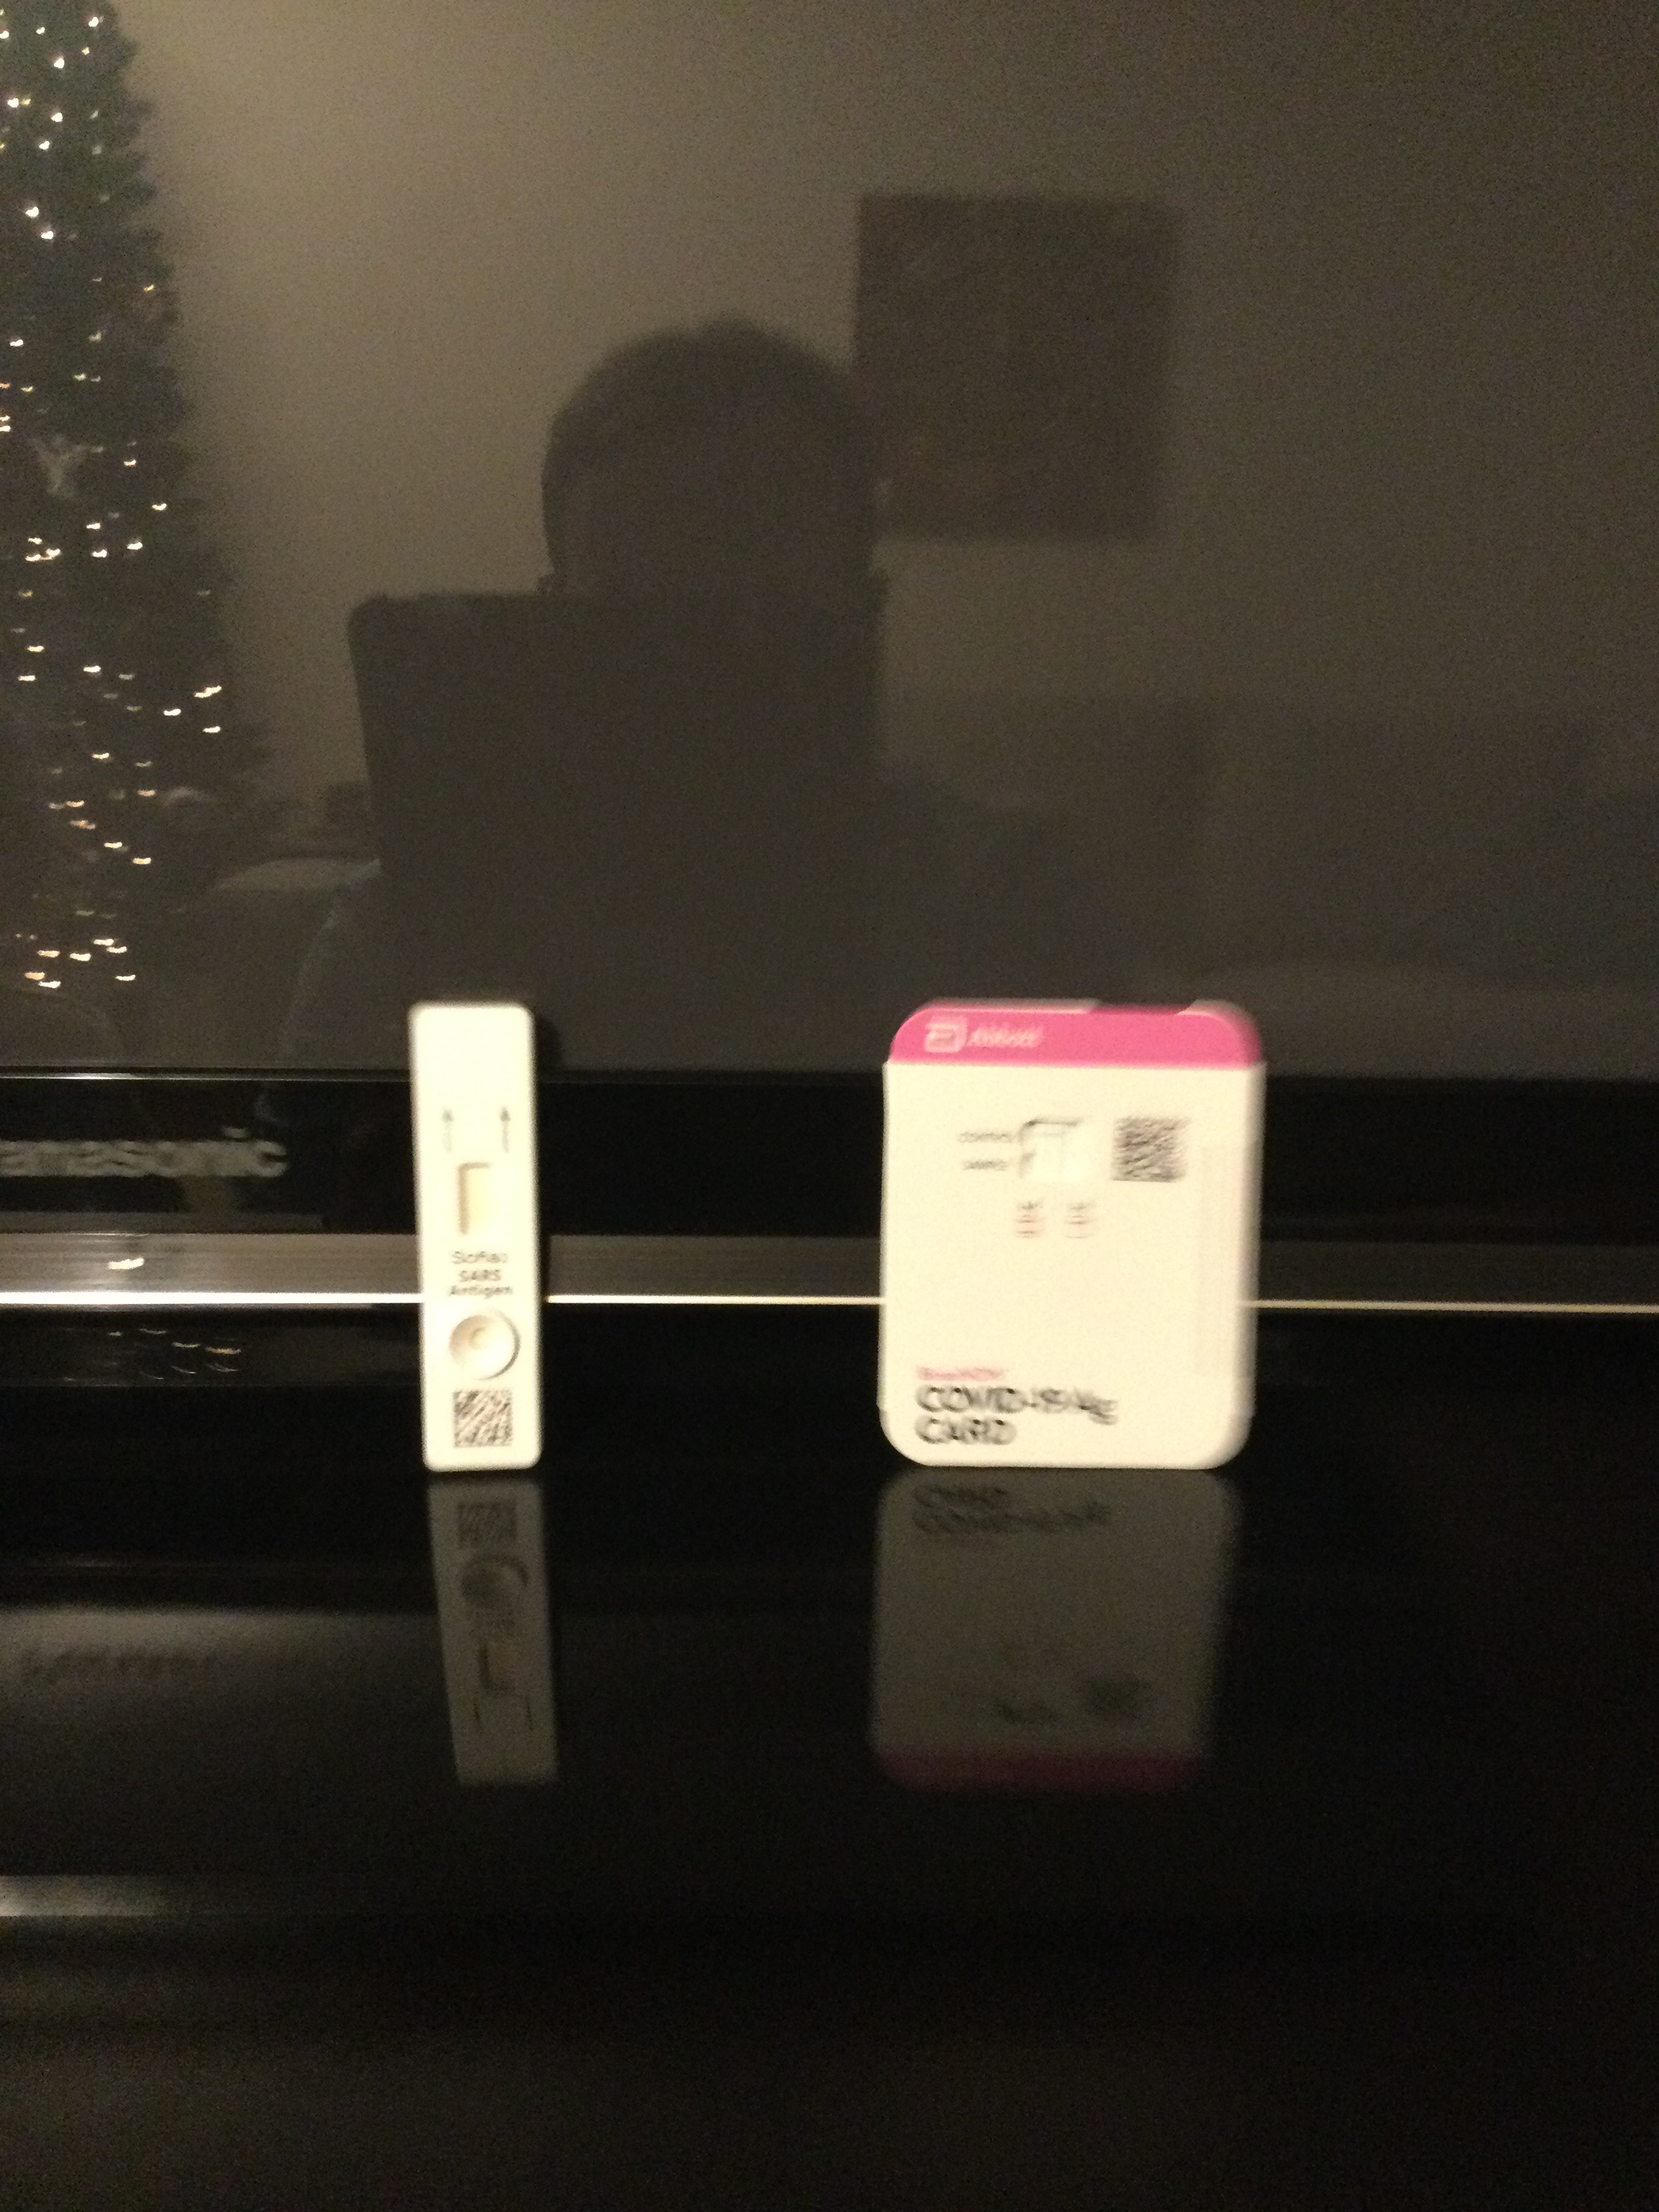binax: (863, 984, 1256, 1479)
quidel: (399, 993, 568, 1480)
